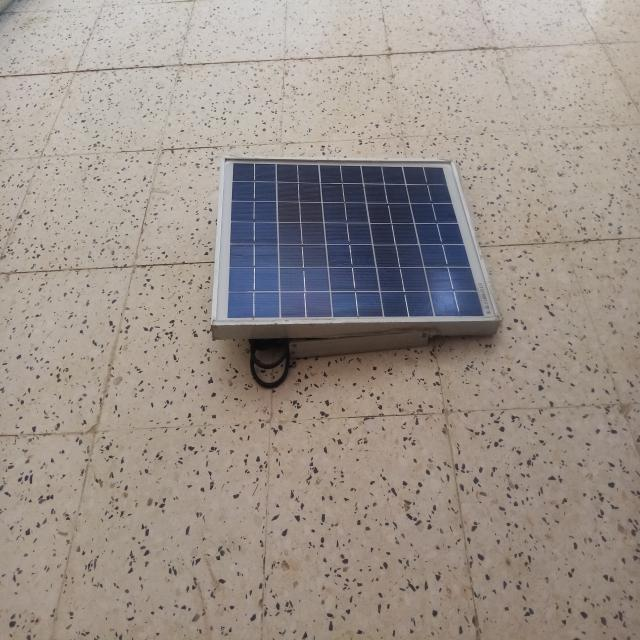no faulty: (211, 157, 500, 328)
